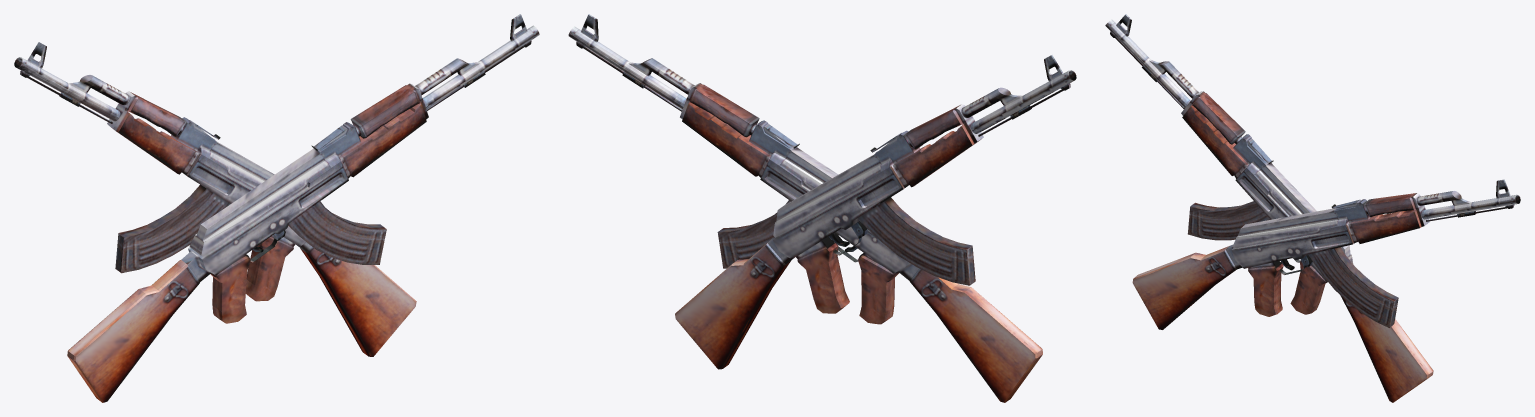
Rendered from obj_outroAk.obj.
3 renders of one model, left to right at view 1: azimuth 30°, elevation 25°; view 2: azimuth 150°, elevation 25°; view 3: azimuth 330°, elevation 25°, orthographic. The views are drawn at different scales.
Parts seen in each view (by area): view 1: Cube_Cube.003; view 2: Cube_Cube.003; view 3: Cube_Cube.003.
Boxes of the visible parts, x1,y1,x2,y2 form: Cube_Cube.003: [14, 14, 539, 402]; Cube_Cube.003: [568, 14, 1076, 402]; Cube_Cube.003: [1105, 14, 1520, 402].
Size of the model in its own units: 9.56 by 6.98 by 0.7608.
Materials: 1 (1 with a texture image).
